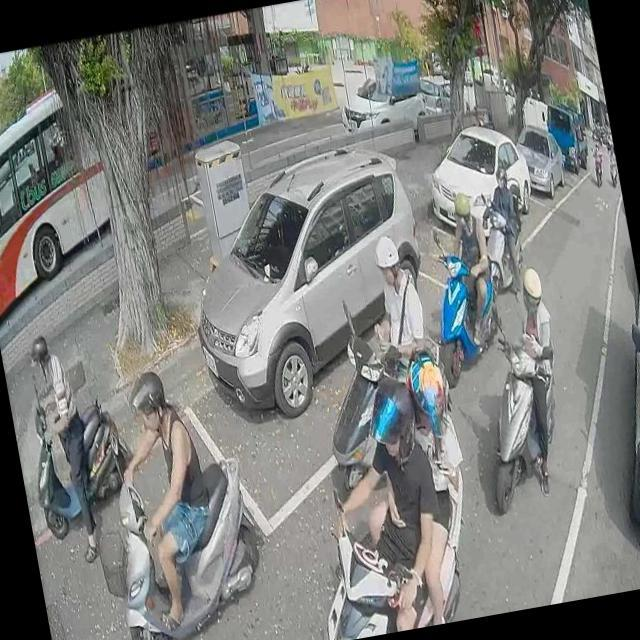person: (297, 381, 466, 640), (341, 347, 486, 630), (100, 357, 230, 640), (493, 257, 578, 498), (23, 330, 105, 560), (355, 232, 432, 392), (430, 178, 501, 350), (484, 164, 536, 299), (114, 624, 168, 640), (606, 144, 616, 164), (591, 141, 600, 157)
